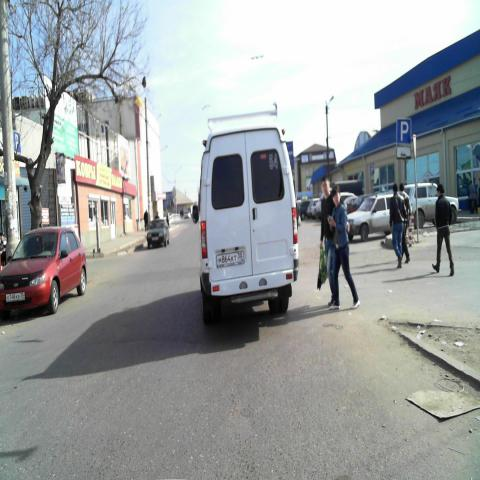8_6_4: (397, 146, 411, 160)
